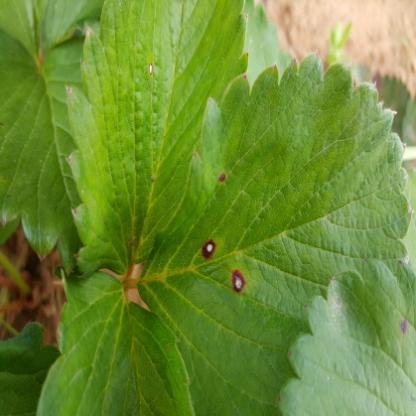Strawberry_Leaf_Spot: (137, 49, 414, 416), (63, 0, 250, 280), (278, 258, 416, 416)
